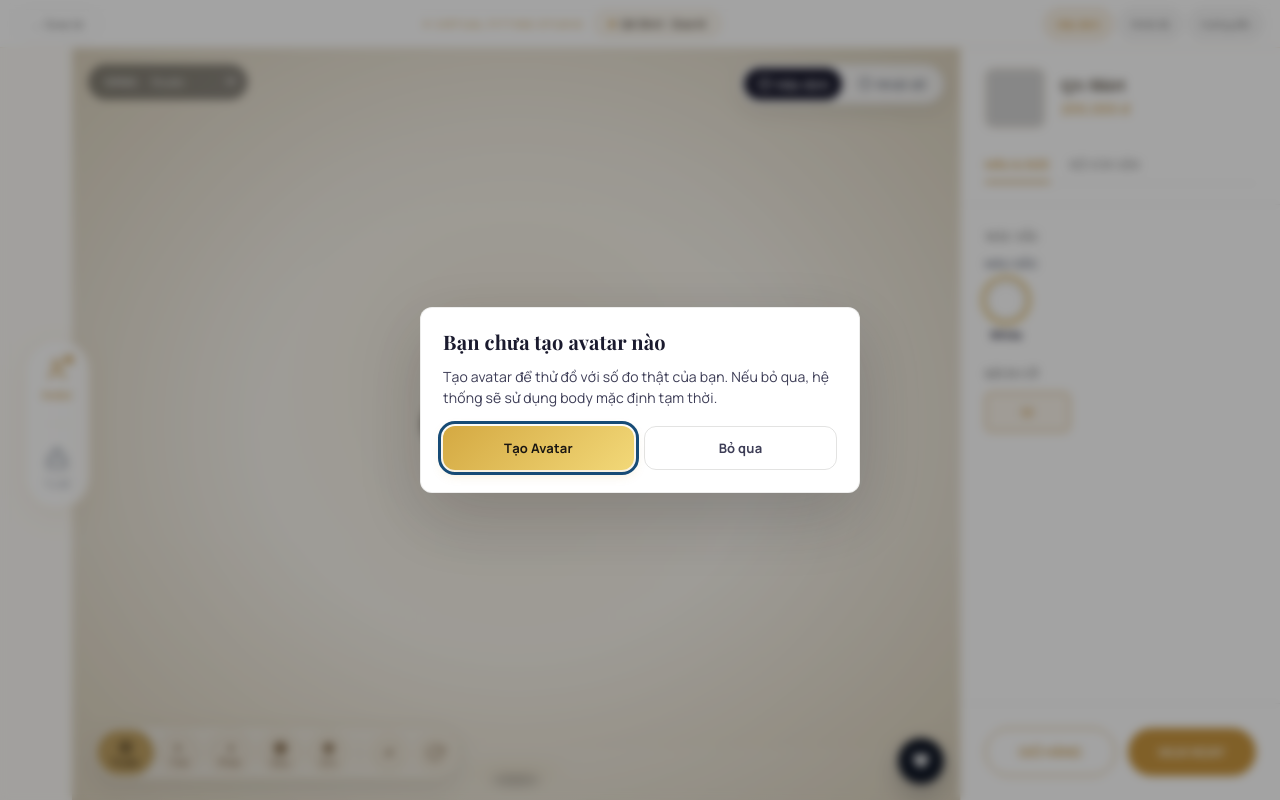
Test case: VirtualTryOn DOM composition (renderer replaced, no GLB/WebGL assertions) › opens and closes the quick guide
Click the button "Bỏ qua" at [740, 448], box [644, 426, 837, 470]
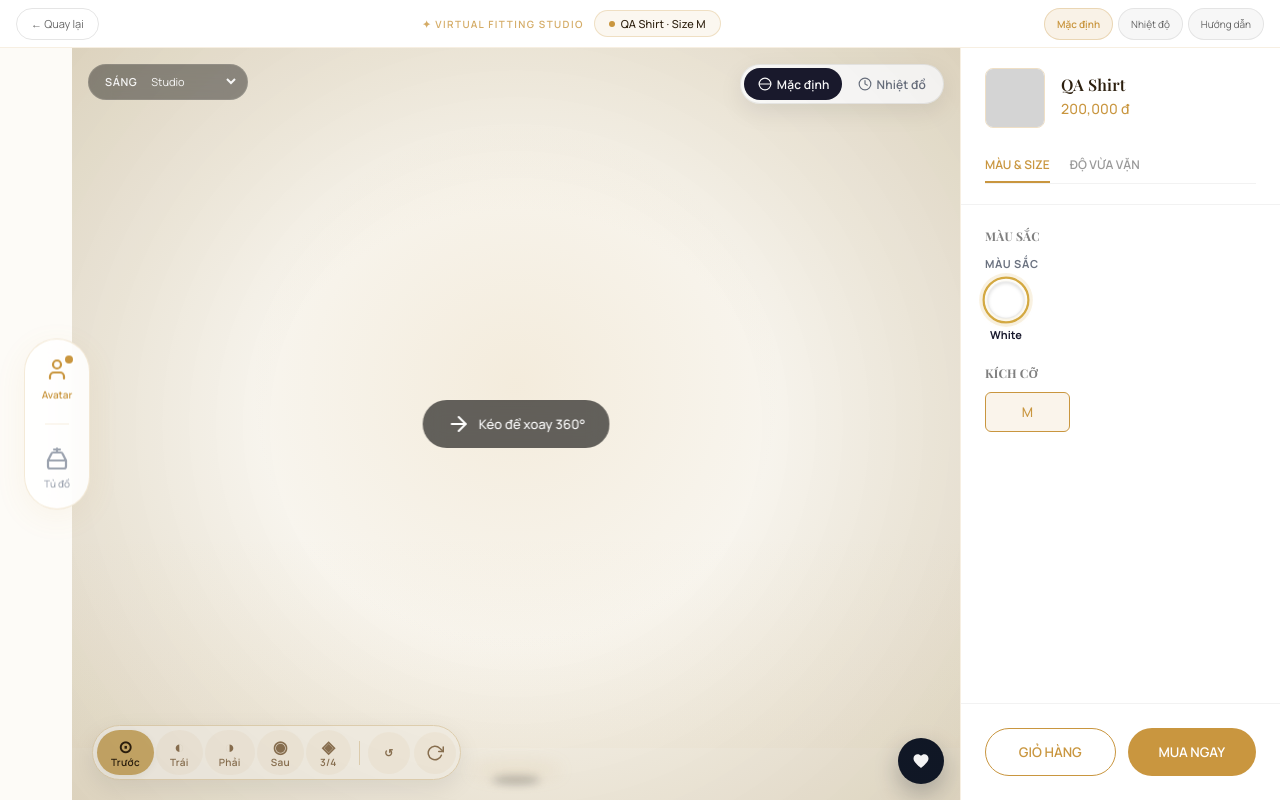
Click the button "Hướng dẫn" at [1226, 24], box [1188, 8, 1264, 40]
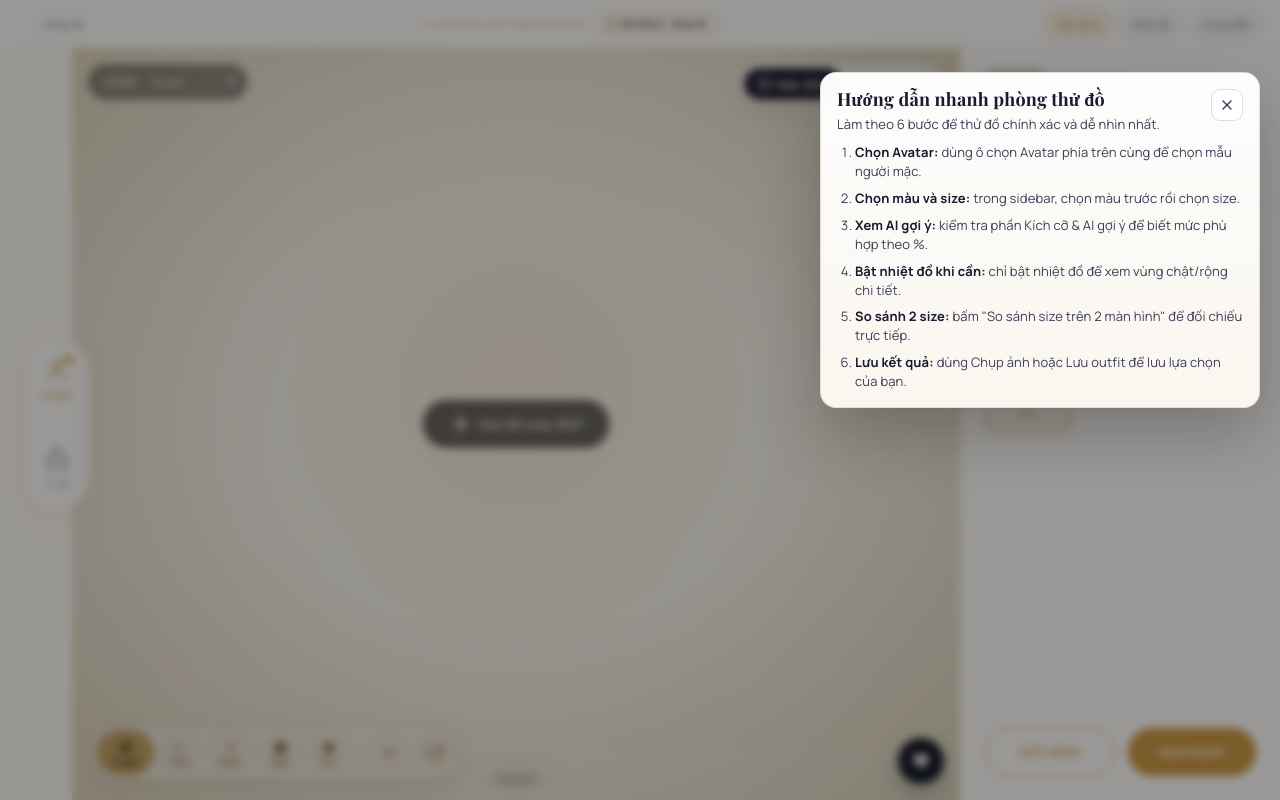
Click the button named "Đóng hướng dẫn" at [1227, 105], box [1211, 89, 1243, 121]
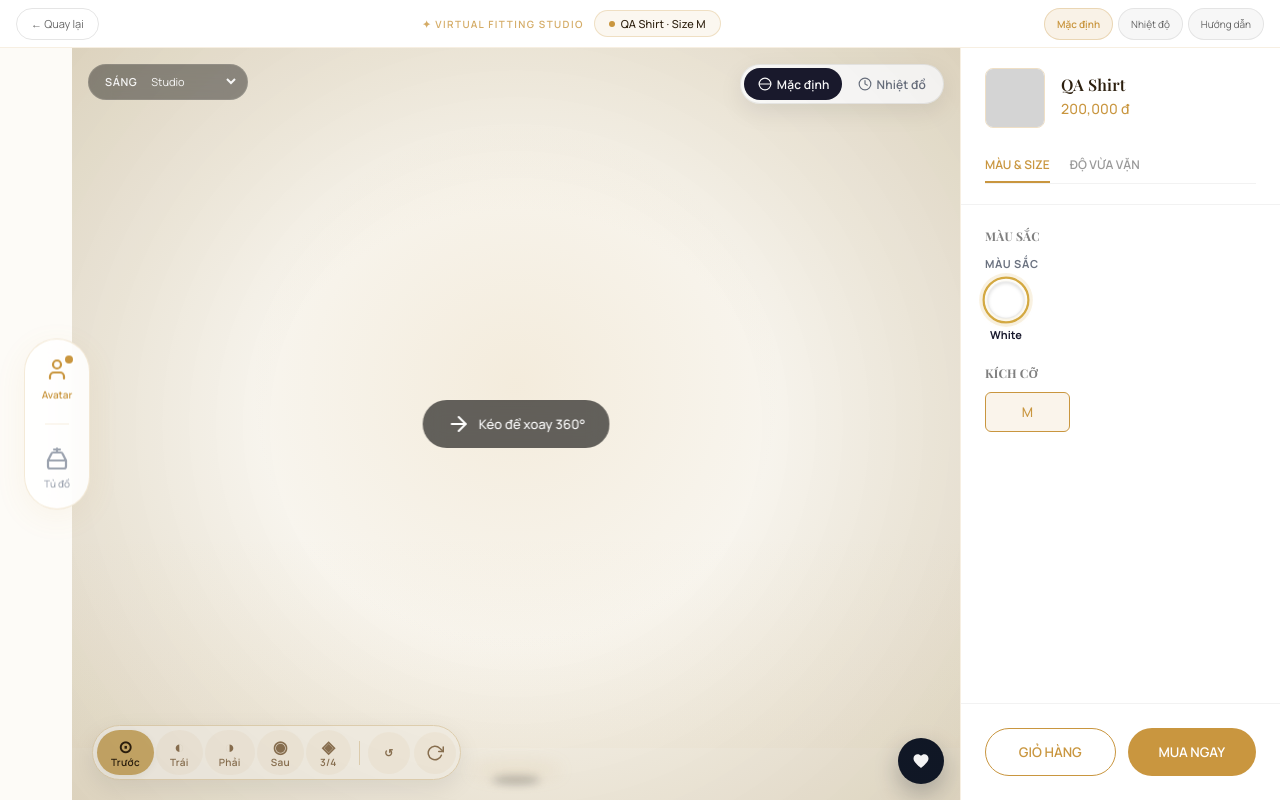
Result: the heading "Hướng dẫn nhanh phòng thử đồ" is gone
